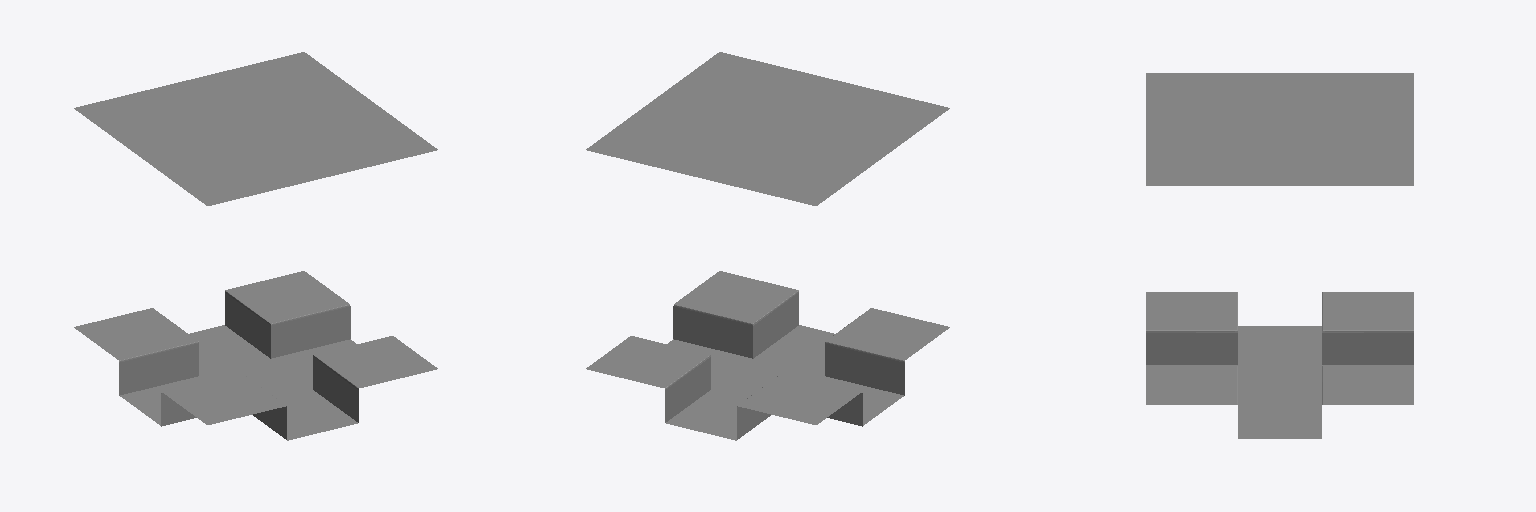
Rendered from crossing_tile.obj.
3 renders of one model, left to right at view 1: azimuth 30°, elevation 25°; view 2: azimuth 150°, elevation 25°; view 3: azimuth 270°, elevation 25°, orthographic.
Parts seen in each view (by area): view 1: polySurface12; view 2: polySurface12; view 3: polySurface12.
Part boxes in pixels (x1,y1,x2,y2): polySurface12: (74, 52, 437, 440); polySurface12: (586, 52, 949, 440); polySurface12: (1146, 73, 1413, 438).
Bounding box in the file's own units: 305 × 320 × 307.